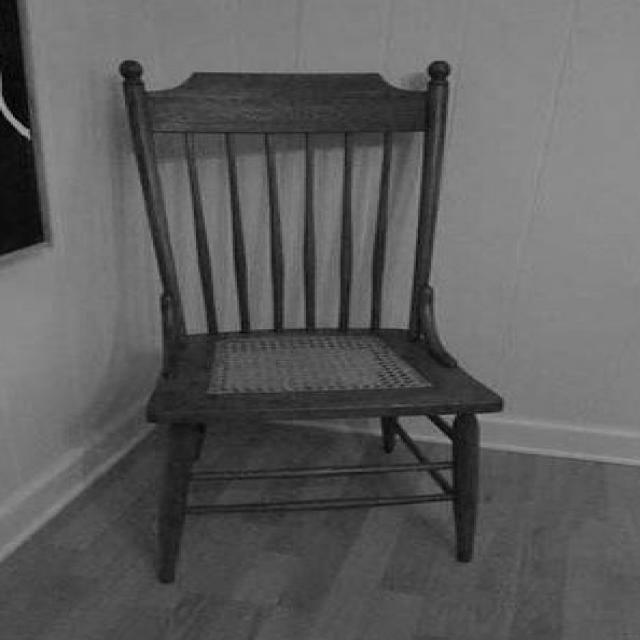chair: (107, 55, 507, 582)
